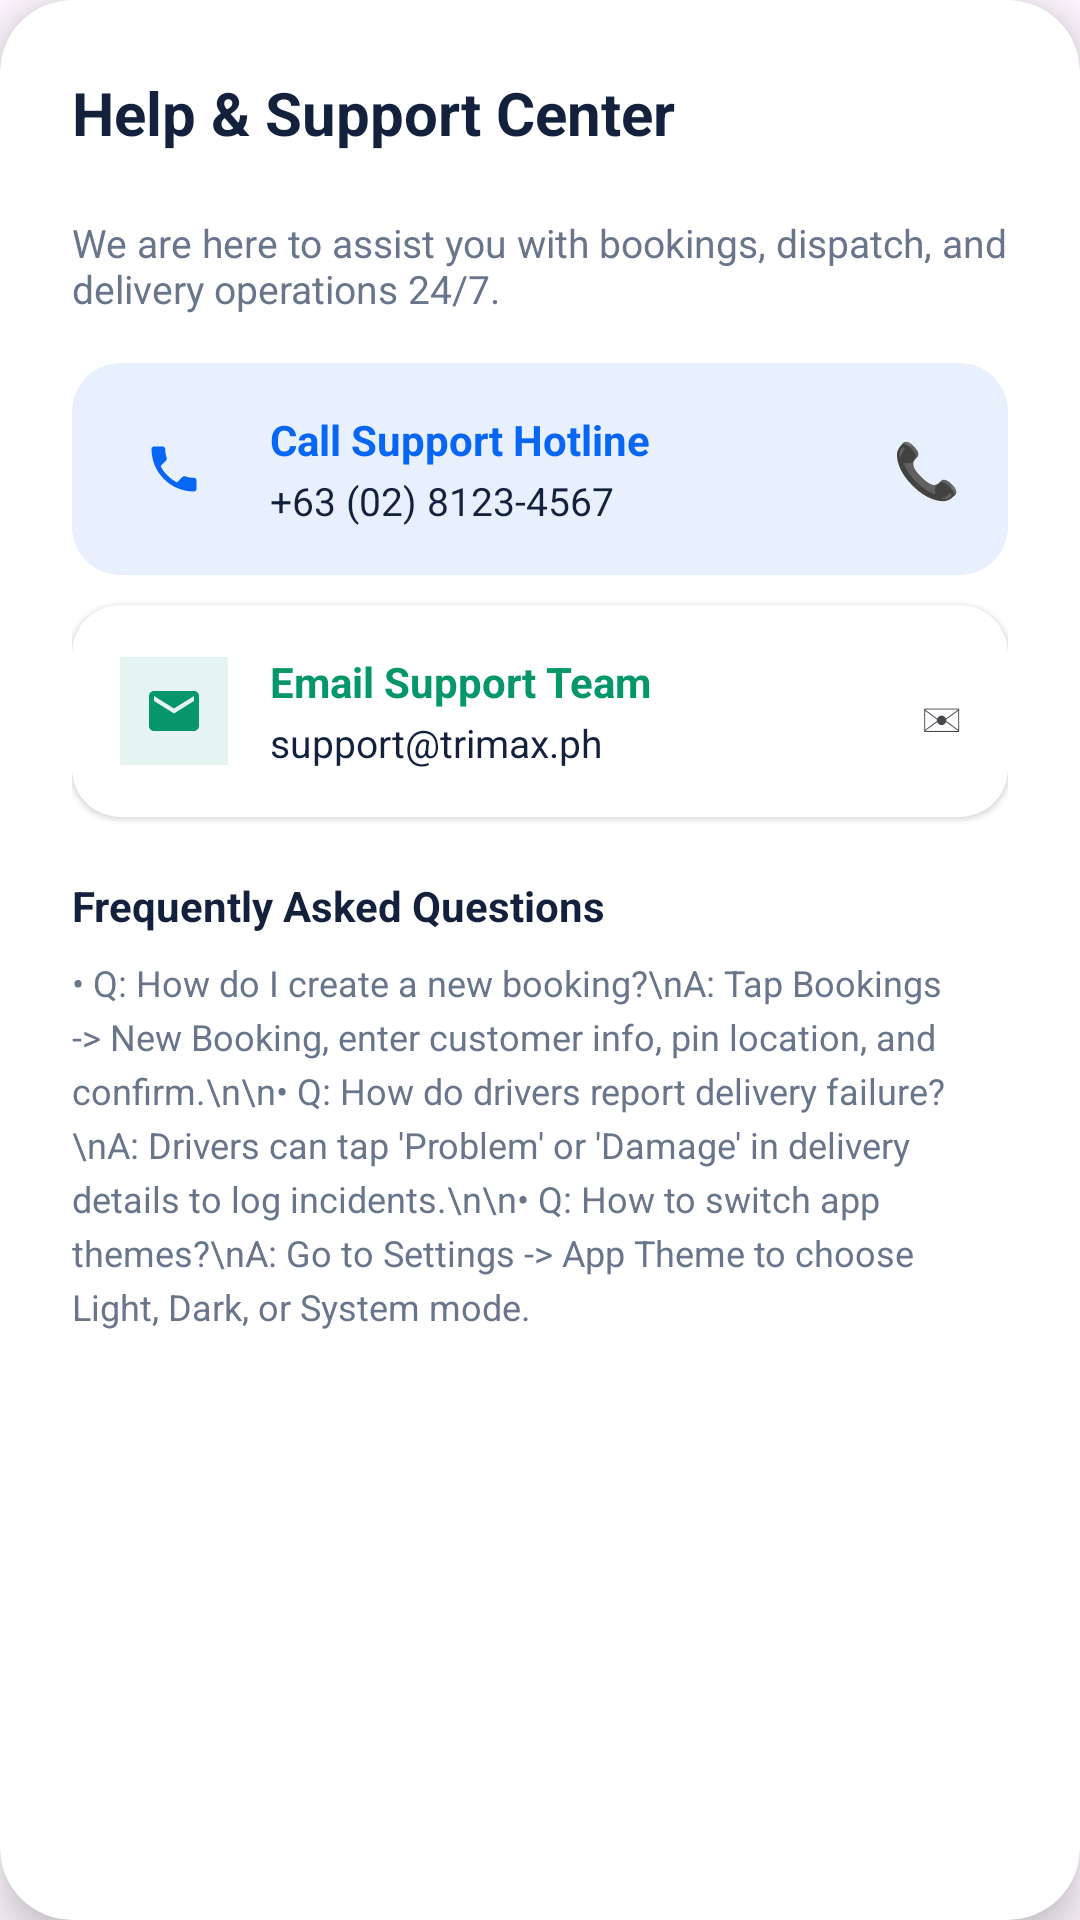

Icon click points for this 1080 x 1920 phone screenshot, format (x=x, y=y):
Phone Icon: (x=174, y=469)
